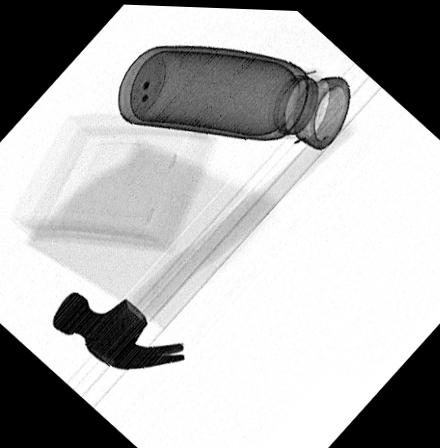Hammer: (50, 104, 358, 371)
